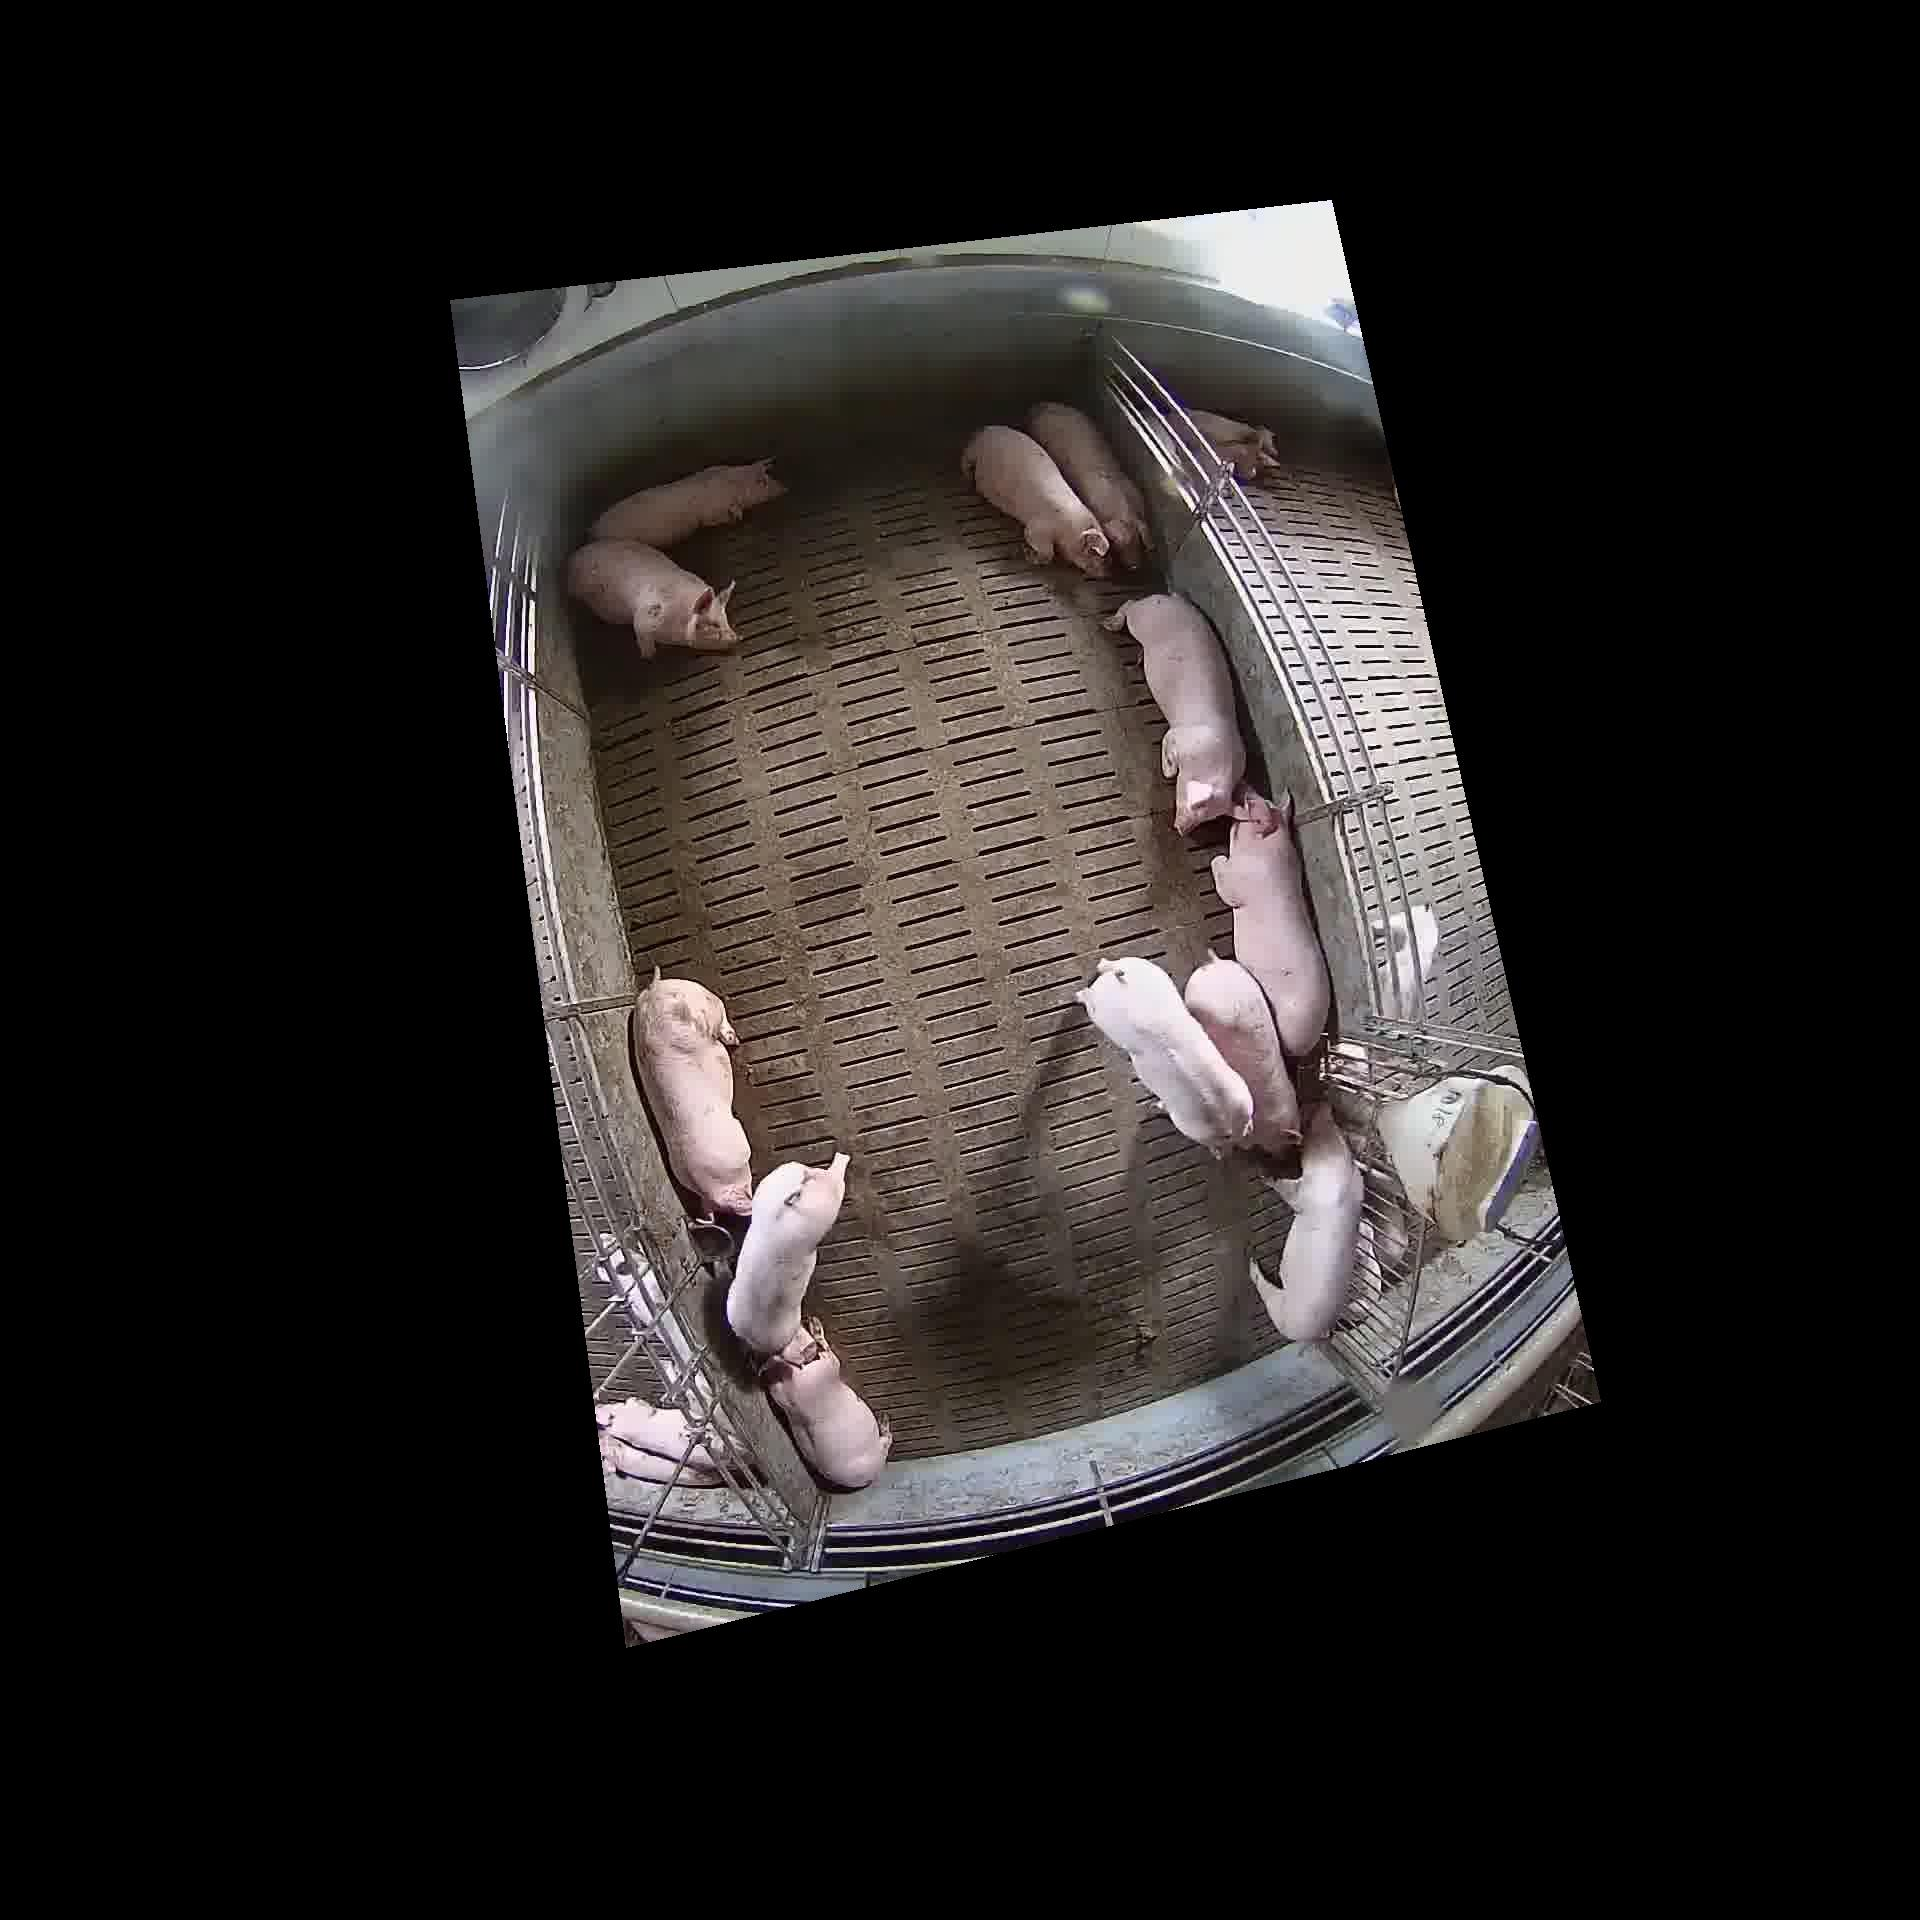pig: (1078, 956, 1248, 1153), (629, 974, 760, 1217), (1106, 594, 1241, 826), (1213, 784, 1327, 1037), (1252, 1102, 1359, 1340), (726, 1153, 844, 1354), (1182, 956, 1298, 1153), (760, 1317, 890, 1486), (960, 425, 1106, 573), (568, 536, 737, 656), (1027, 403, 1148, 564), (587, 450, 782, 543)
